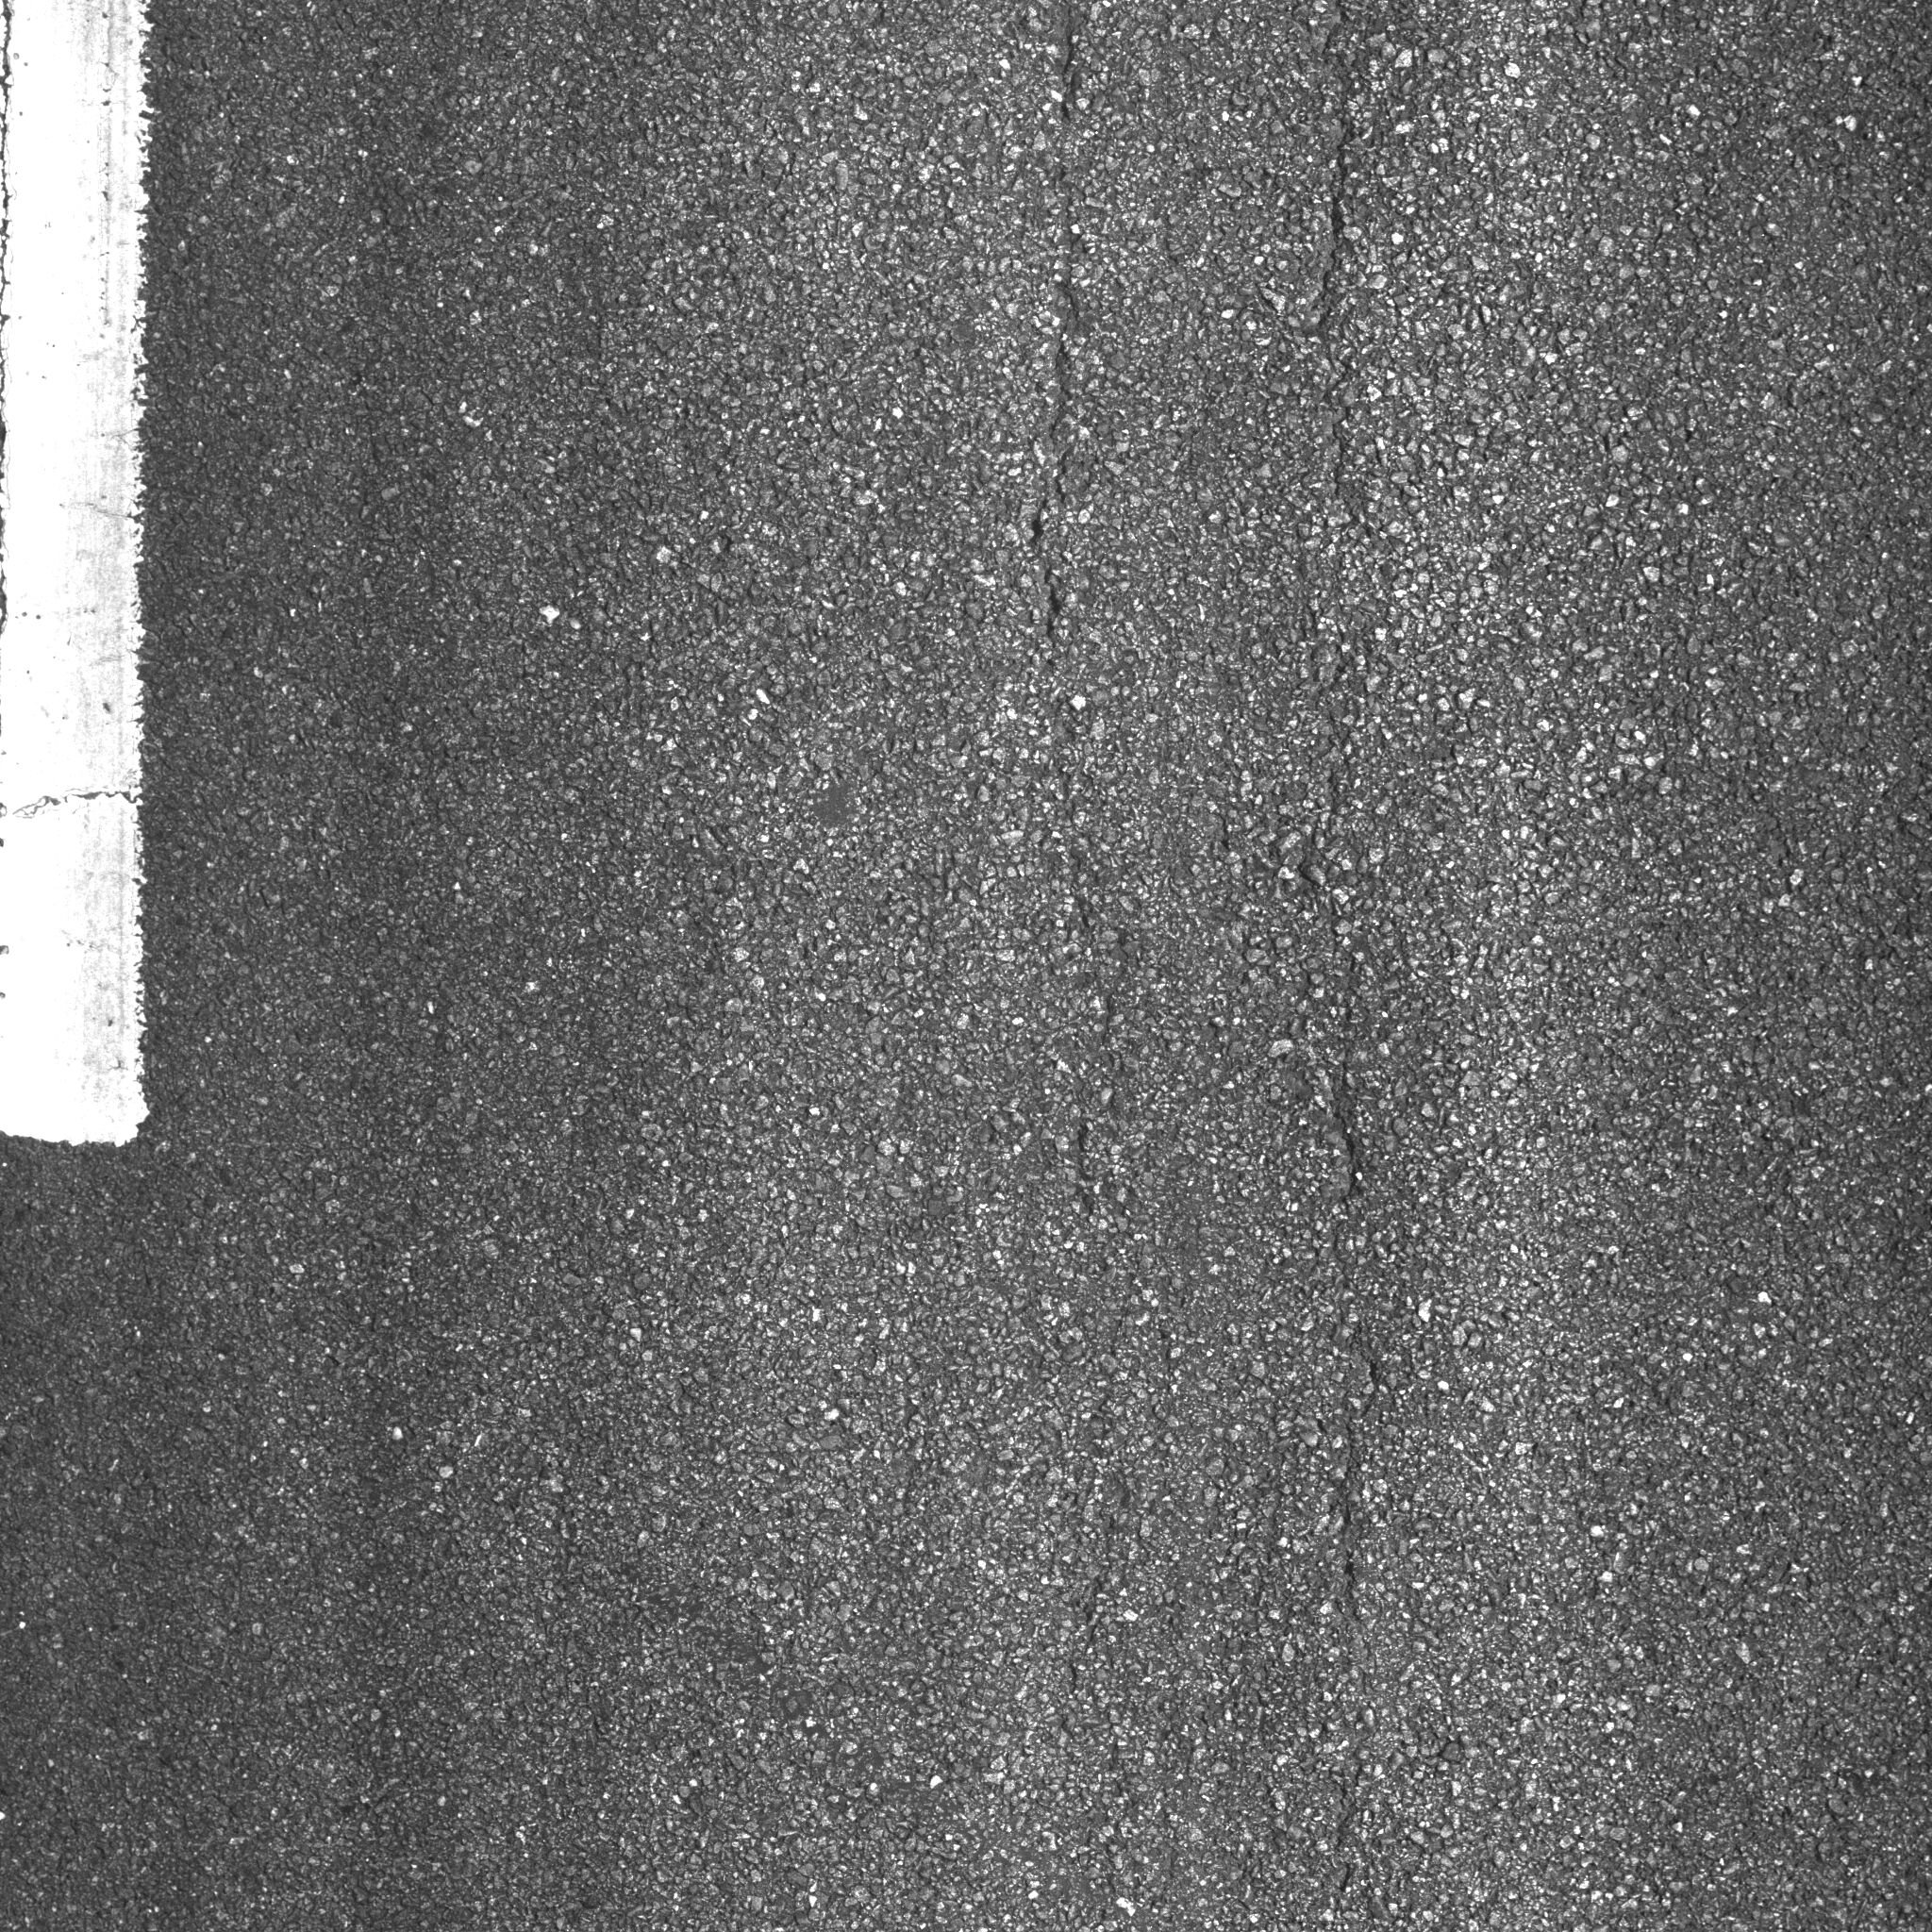longitudinal: (1277, 4, 1426, 1881), (996, 7, 1187, 1359)
